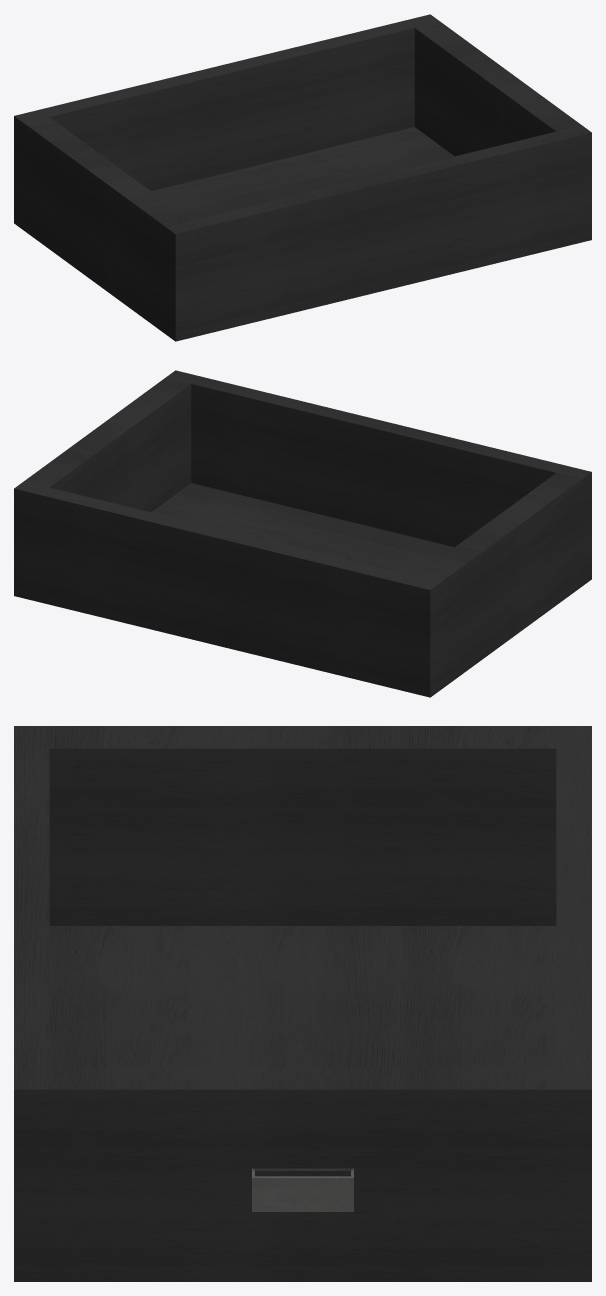
File: darak.glb
3 renders of one model, top to bottom at view 1: azimuth 30°, elevation 25°; view 2: azimuth 150°, elevation 25°; view 3: azimuth 270°, elevation 25°, orthographic. The views are drawn at different scales.
Visible parts, largest first — view 1: Cube; view 2: Cube; view 3: Cube, Cube.001.
Part boxes in pixels (<box>): Cube: <box>14,14,591,341</box>; Cube: <box>14,370,591,697</box>; Cube: <box>14,726,591,1281</box>; Cube.001: <box>252,1168,353,1211</box>.
Size of the model in its own units: 2.61 by 0.6273 by 1.71.
2 materials, 2 textured.
